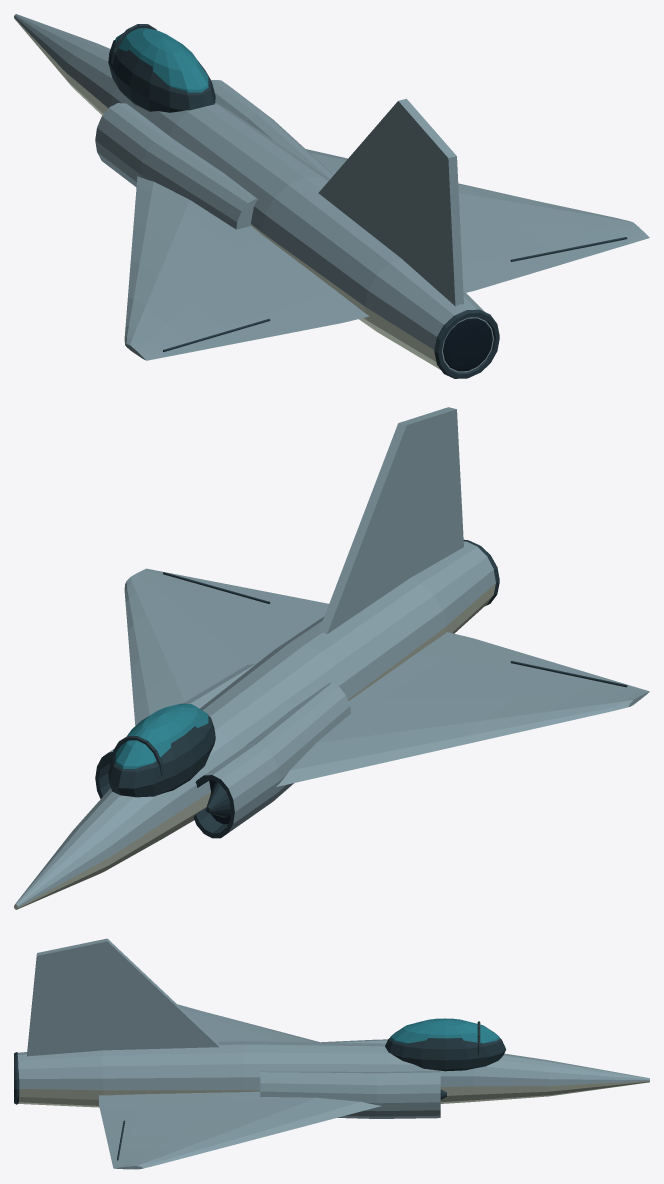
File: archive-mirage2000c.glb
3 renders of one model, top to bottom at view 1: azimuth 30°, elevation 25°; view 2: azimuth 150°, elevation 25°; view 3: azimuth 270°, elevation 25°, orthographic. The views are drawn at different scales.
Parts seen in each view (by area): view 1: archive-mirage2000c-fuselage.009-geometry, archive-mirage2000c-wing_0_-1.009-geometry, archive-mirage2000c-vertical_tail.009-geometry, archive-mirage2000c-wing_0_1.009-geometry, archive-mirage2000c-archive-mirage2000c-geometry, archive-mirage2000c-intake_0.001-geometry, archive-mirage2000c-intake_1-geometry; view 2: archive-mirage2000c-fuselage.009-geometry, archive-mirage2000c-wing_0_-1.009-geometry, archive-mirage2000c-wing_0_1.009-geometry, archive-mirage2000c-vertical_tail.009-geometry, archive-mirage2000c-intake_0.001-geometry, archive-mirage2000c-archive-mirage2000c-geometry, archive-mirage2000c-intake_1-geometry; view 3: archive-mirage2000c-fuselage.009-geometry, archive-mirage2000c-vertical_tail.009-geometry, archive-mirage2000c-wing_0_1.009-geometry, archive-mirage2000c-intake_1-geometry, archive-mirage2000c-archive-mirage2000c-geometry, archive-mirage2000c-wing_0_-1.009-geometry.
Boxes of the visible parts, x1,y1,x2,y2 form: archive-mirage2000c-fuselage.009-geometry: [14, 14, 493, 372]; archive-mirage2000c-wing_0_-1.009-geometry: [124, 176, 369, 360]; archive-mirage2000c-vertical_tail.009-geometry: [318, 98, 463, 306]; archive-mirage2000c-wing_0_1.009-geometry: [306, 149, 649, 292]; archive-mirage2000c-archive-mirage2000c-geometry: [108, 24, 499, 378]; archive-mirage2000c-intake_0.001-geometry: [95, 103, 257, 229]; archive-mirage2000c-intake_1-geometry: [211, 80, 333, 178]; archive-mirage2000c-fuselage.009-geometry: [14, 541, 495, 909]; archive-mirage2000c-wing_0_-1.009-geometry: [276, 632, 649, 786]; archive-mirage2000c-wing_0_1.009-geometry: [124, 568, 328, 725]; archive-mirage2000c-vertical_tail.009-geometry: [318, 407, 463, 634]; archive-mirage2000c-intake_0.001-geometry: [193, 683, 350, 838]; archive-mirage2000c-archive-mirage2000c-geometry: [108, 539, 499, 817]; archive-mirage2000c-intake_1-geometry: [95, 664, 255, 798]; archive-mirage2000c-fuselage.009-geometry: [17, 1041, 649, 1107]; archive-mirage2000c-vertical_tail.009-geometry: [27, 938, 219, 1056]; archive-mirage2000c-wing_0_1.009-geometry: [99, 1091, 381, 1169]; archive-mirage2000c-intake_1-geometry: [260, 1071, 440, 1118]; archive-mirage2000c-archive-mirage2000c-geometry: [14, 1018, 506, 1104]; archive-mirage2000c-wing_0_-1.009-geometry: [177, 1004, 319, 1042].
Bounding box in the file's own units: 3.82 × 1.72 × 5.96.
